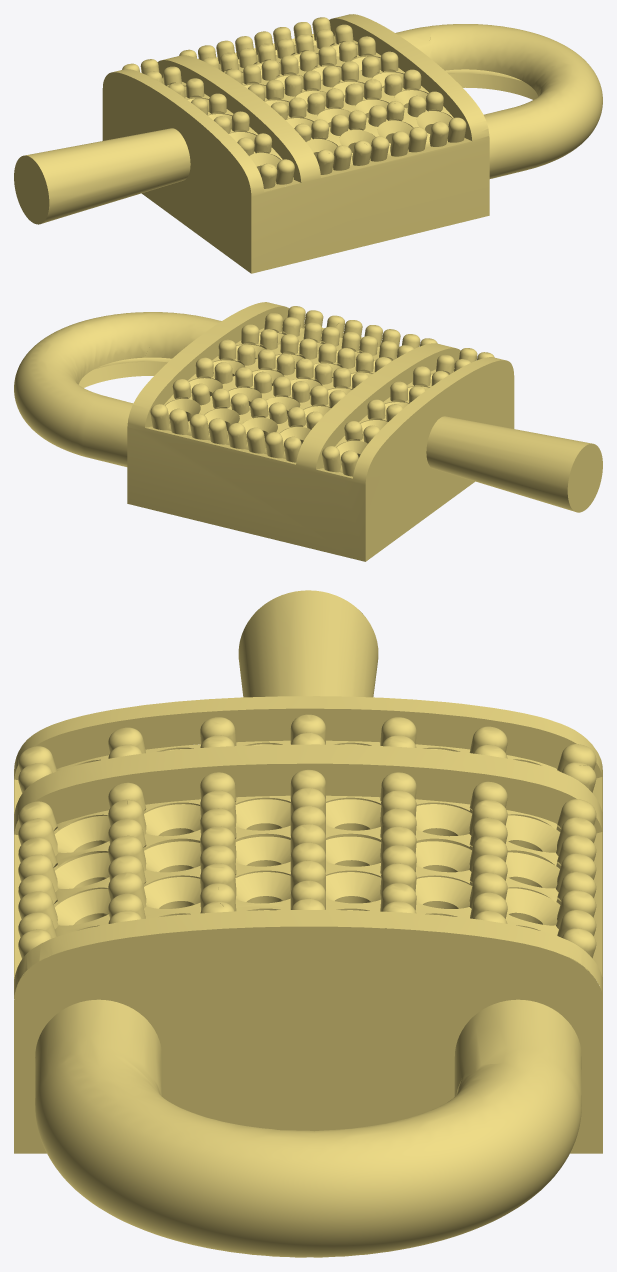
File: kolye53_asma_kilit.glb
3 renders of one model, top to bottom at view 1: azimuth 30°, elevation 25°; view 2: azimuth 150°, elevation 25°; view 3: azimuth 270°, elevation 25°, orthographic. The views are drawn at different scales.
Visible parts, largest first — view 1: Renderer Node; view 2: Renderer Node; view 3: Renderer Node.
Boxes of the visible parts, x1=… form: Renderer Node: x1=14, y1=14, x2=602, y2=273; Renderer Node: x1=14, y1=302, x2=602, y2=561; Renderer Node: x1=14, y1=590, x2=602, y2=1257.
Size of the model in its own units: 18.08 by 3.58 by 8.42.
